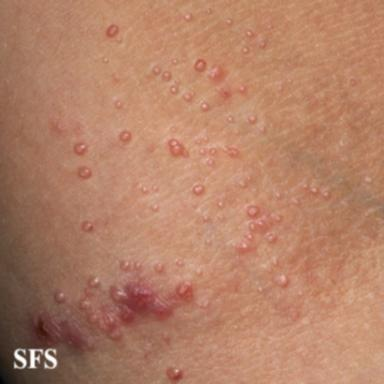Molluscum-Contagiosum: (109, 279, 172, 323), (89, 313, 122, 340), (169, 139, 188, 157), (176, 281, 193, 301), (167, 367, 183, 382), (208, 65, 222, 80), (223, 147, 239, 158), (194, 59, 206, 72), (107, 24, 119, 37), (78, 167, 91, 179), (247, 205, 259, 217), (74, 143, 87, 154), (265, 232, 277, 243), (89, 277, 101, 288), (220, 87, 232, 98), (193, 184, 204, 195), (183, 91, 194, 102), (55, 292, 66, 303), (119, 131, 131, 141), (79, 300, 91, 310), (82, 222, 93, 232), (278, 275, 288, 286), (120, 260, 130, 271), (247, 115, 257, 125), (162, 71, 171, 81), (291, 197, 301, 206), (239, 242, 249, 251), (85, 288, 95, 297), (238, 85, 247, 94), (133, 261, 142, 270), (155, 263, 164, 272), (184, 13, 193, 21), (246, 29, 255, 37), (258, 40, 266, 49), (169, 86, 178, 94), (153, 66, 161, 74), (151, 204, 159, 212), (207, 158, 215, 166), (201, 103, 209, 111), (275, 214, 283, 222), (239, 179, 246, 188), (242, 47, 250, 54), (115, 100, 122, 108), (249, 222, 256, 230), (257, 220, 265, 227), (349, 78, 356, 86), (196, 268, 203, 276), (226, 18, 233, 25), (227, 116, 234, 123), (323, 191, 330, 198), (311, 187, 318, 194), (275, 192, 282, 199), (246, 234, 253, 241), (365, 176, 372, 183), (176, 260, 183, 267), (271, 258, 278, 265), (209, 148, 217, 154), (203, 214, 209, 222), (116, 36, 122, 43), (142, 187, 148, 194), (217, 201, 223, 208), (172, 59, 178, 65), (103, 57, 109, 63), (206, 8, 211, 14), (152, 185, 157, 191), (195, 139, 201, 144), (199, 149, 205, 154), (247, 175, 252, 181), (303, 184, 308, 189), (258, 287, 263, 292), (170, 127, 175, 131), (204, 137, 209, 141), (235, 130, 239, 135), (299, 291, 303, 296)
